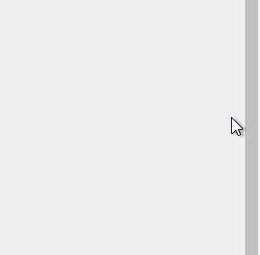cursor: (230, 116, 244, 136)
